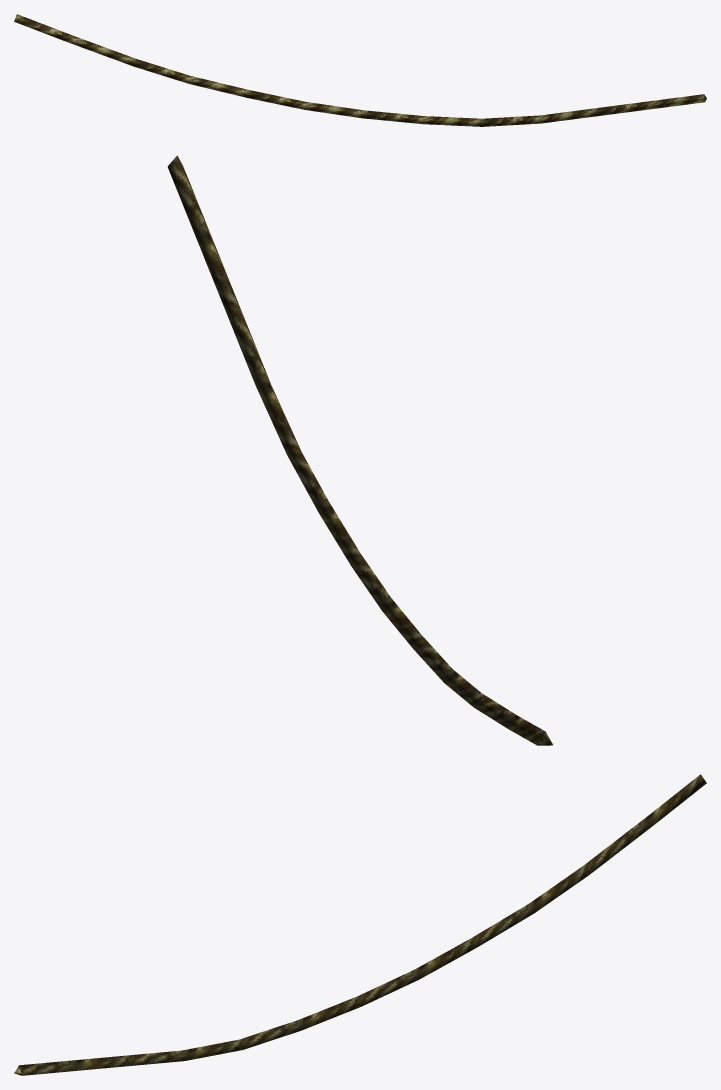
File: OVERHILL_A_01_ROPE_05.fbx
3 views of the same model, one above another, from view 1: azimuth 30°, elevation 25°; view 2: azimuth 150°, elevation 25°; view 3: azimuth 270°, elevation 25° (orthographic). The views are drawn at different scales.
Visible parts, largest first — view 1: OVERHILL_A_01_ROPE_05; view 2: OVERHILL_A_01_ROPE_05; view 3: OVERHILL_A_01_ROPE_05.
Boxes of the visible parts, box(x1,y1,x2,y2) form: OVERHILL_A_01_ROPE_05: box(14, 14, 706, 126); OVERHILL_A_01_ROPE_05: box(167, 155, 552, 745); OVERHILL_A_01_ROPE_05: box(14, 774, 706, 1075).
Size of the model in its own units: 30257 by 4156 by 30256.
1 material, 1 textured.
